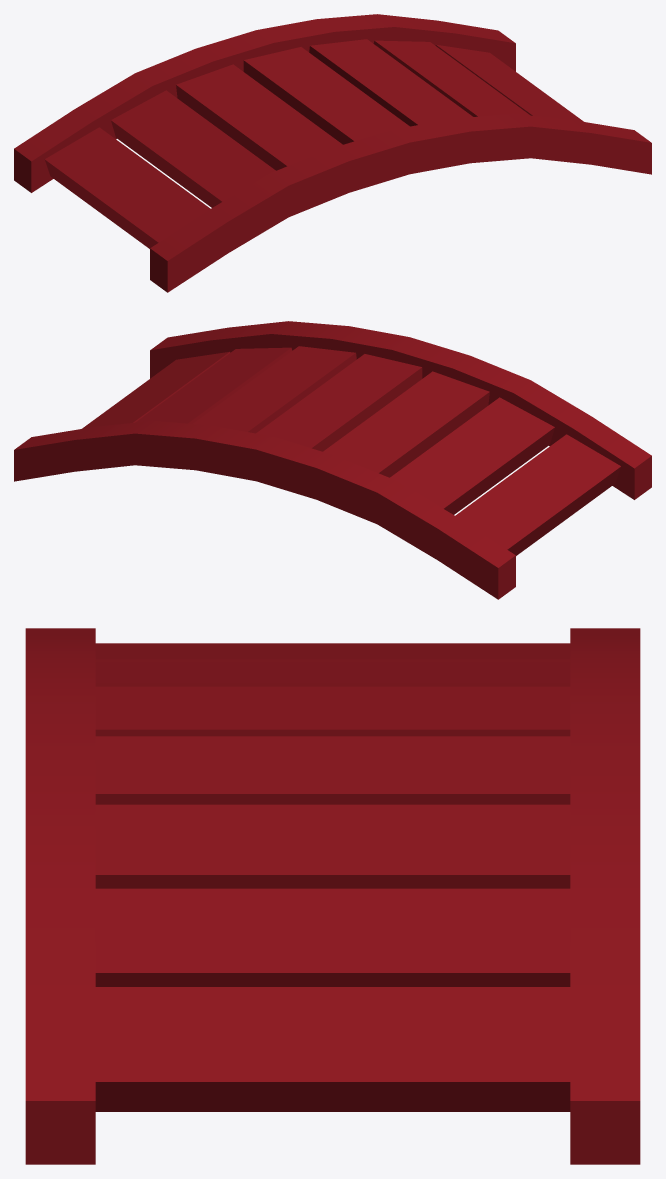
Rendered from Bridge.fbx.
The picture shows the model from 3 angles, top to bottom: view 1: azimuth 30°, elevation 25°; view 2: azimuth 150°, elevation 25°; view 3: azimuth 270°, elevation 25°; orthographic projection. The views are drawn at different scales.
Parts seen in each view (by area): view 1: pCube27; view 2: pCube27; view 3: pCube27.
Part boxes in pixels (left/top/right/bottom): pCube27: left=14, top=14, right=651, bottom=292; pCube27: left=14, top=321, right=651, bottom=599; pCube27: left=25, top=628, right=640, bottom=1164.
Bounding box in the file's own units: 15.98 × 2.87 × 8.78.
